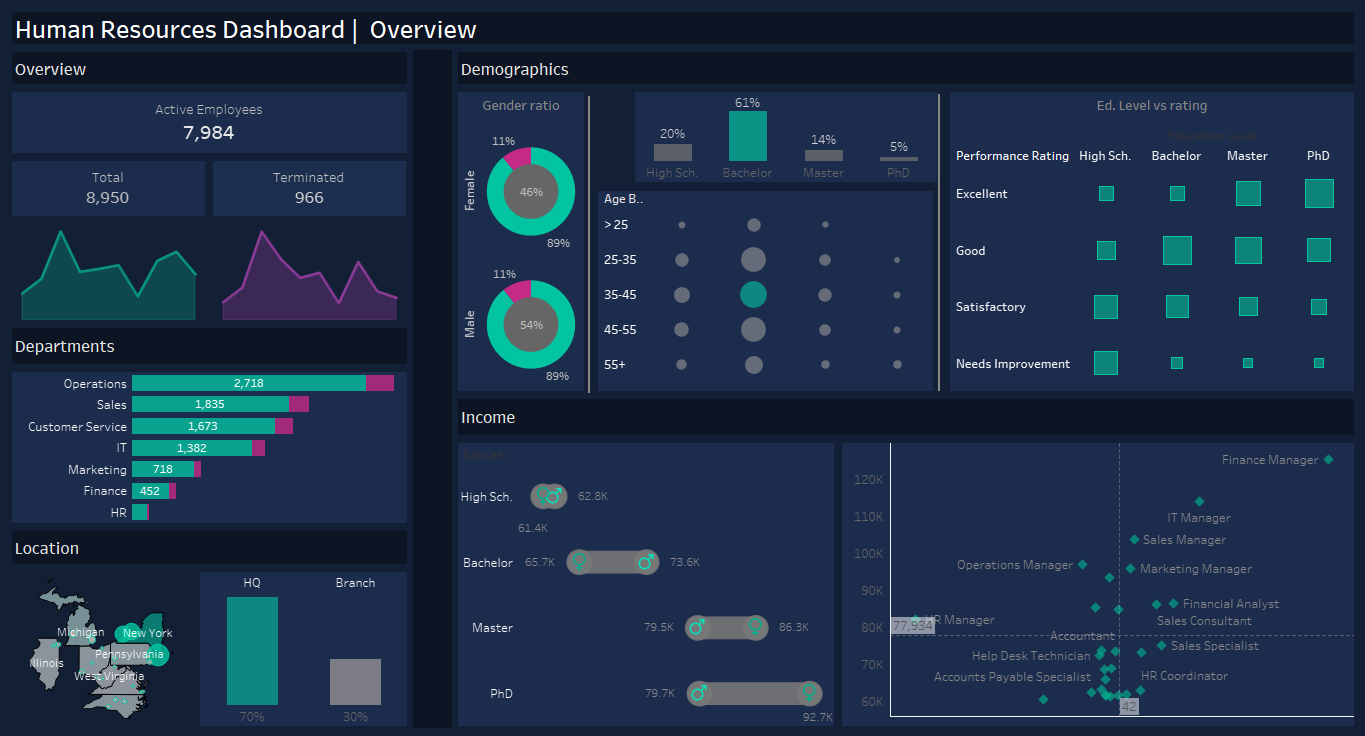

The dashboard page shown, as its layout file describes it:
{"tool":"tableau","page":{"name":"Dashboard 2","canvas":[1000,1000],"units":"permille","ordinal":0},"visuals":[{"type":"text","box":[6.9,13.7,986.1,53.5]},{"type":"text","box":[6.9,67.2,294.3,54.9]},{"type":"blank","box":[301.2,67.2,31.7,919.1]},{"type":"text","box":[332.9,67.2,660.2,54.9]},{"type":"worksheet","title":"BAN ","mark":"Automatic","box":[6.9,122.1,294.3,92.4]},{"type":"worksheet","title":"Gender ratio","mark":"Pie","rows":["Gender"],"cols":["Calculation_104427251961040899","Calculation_104427251961057285"],"box":[332.9,122.1,116,412.9]},{"type":"blank","box":[448.9,122.1,5.2,412.9]},{"type":"worksheet","title":"Ed. Level Count","mark":"Bar","cols":["Education Level"],"box":[454.1,122.1,297,169.5]},{"type":"blank","box":[751.1,122.1,11.2,412.9]},{"type":"worksheet","title":"Ed. Level vs rating","mark":"Square","rows":["Performance Rating"],"cols":["Education Level"],"box":[762.3,122.1,230.7,412.9]},{"type":"worksheet","title":"BAN (2)","mark":"Automatic","box":[6.9,214.5,147.1,85.5]},{"type":"worksheet","title":"BAN (3)","mark":"Automatic","box":[154.1,214.5,147.1,85.5]},{"type":"worksheet","title":"Age vs Education","mark":"Circle","rows":["Calculation_1098878344508317708"],"cols":["Education Level"],"box":[454.1,291.6,297,243.3]},{"type":"worksheet","title":"Total Hired line chart","mark":"Area","rows":["Calculation_1001206527414140932","Calculation_1001206527414140932"],"cols":["Hiredate"],"box":[6.9,300,147.1,138.9]},{"type":"worksheet","title":"Term. line chart ","mark":"Area","rows":["Active Employees (copy)_1001206527409029121","Active Employees (copy)_1001206527409029121"],"cols":["Hiredate"],"box":[154,300,147.1,138.9]},{"type":"text","box":[6.9,438.9,294.3,59.9]},{"type":"worksheet","title":"Dept. wise employees","mark":"Bar","rows":["Department"],"cols":["Calculation_1001206527414140932"],"box":[6.9,498.8,294.3,213.9]},{"type":"text","box":[332.9,535,660.2,59.7]},{"type":"worksheet","title":"Barbell chart","mark":"Square","rows":["Education Level"],"cols":["Salary","Salary"],"box":[332.9,594.7,332.5,391.6]},{"type":"worksheet","title":"Job vs salary","mark":"Shape","rows":["Salary"],"cols":["Calculation_1098878344504213515"],"box":[665.4,594.7,327.7,391.6]},{"type":"text","box":[6.9,712.7,294.3,55.2]},{"type":"worksheet","title":"Map","mark":"Automatic","box":[6.9,767.8,162.8,218.5]},{"type":"worksheet","title":"Sheet 6","mark":"Automatic","cols":["Calculation_1001206527483023392","Calculation_1001206527414140932"],"box":[169.7,767.8,131.5,218.5]}]}

Visuals, with their boxes on the dashboard's canvas, which has no fixed pixel size, in thousandths of its width and height (x1, y1, x2, y2). These are canvas units, not pixel positions in the 1365x736 screenshot, which may show the page scaled, cropped or inside an application window:
text: Rect(7, 14, 993, 67)
text: Rect(7, 67, 301, 122)
blank: Rect(301, 67, 333, 986)
text: Rect(333, 67, 993, 122)
"BAN " worksheet: Rect(7, 122, 301, 214)
"Gender ratio" worksheet (Pie marks): Rect(333, 122, 449, 535)
blank: Rect(449, 122, 454, 535)
"Ed. Level Count" worksheet (Bar marks): Rect(454, 122, 751, 292)
blank: Rect(751, 122, 762, 535)
"Ed. Level vs rating" worksheet (Square marks): Rect(762, 122, 993, 535)
"BAN (2)" worksheet: Rect(7, 214, 154, 300)
"BAN (3)" worksheet: Rect(154, 214, 301, 300)
"Age vs Education" worksheet (Circle marks): Rect(454, 292, 751, 535)
"Total Hired line chart" worksheet (Area marks): Rect(7, 300, 154, 439)
"Term. line chart " worksheet (Area marks): Rect(154, 300, 301, 439)
text: Rect(7, 439, 301, 499)
"Dept. wise employees" worksheet (Bar marks): Rect(7, 499, 301, 713)
text: Rect(333, 535, 993, 595)
"Barbell chart" worksheet (Square marks): Rect(333, 595, 665, 986)
"Job vs salary" worksheet (Shape marks): Rect(665, 595, 993, 986)
text: Rect(7, 713, 301, 768)
"Map" worksheet: Rect(7, 768, 170, 986)
"Sheet 6" worksheet: Rect(170, 768, 301, 986)
